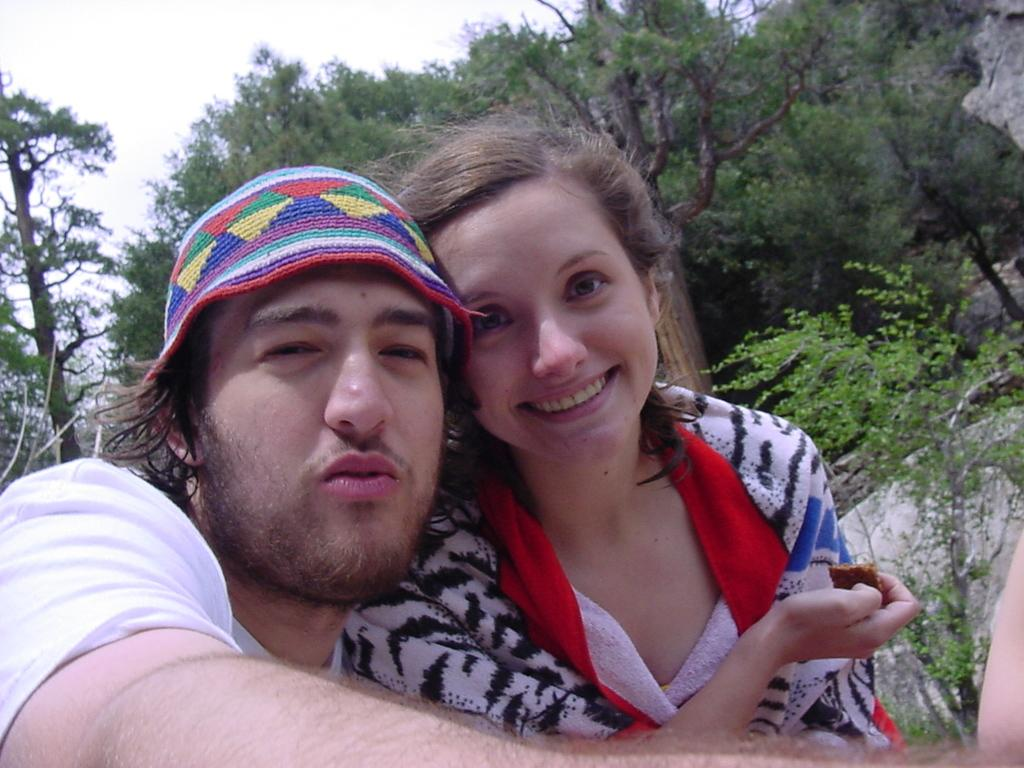Hat: (134, 164, 476, 425)
